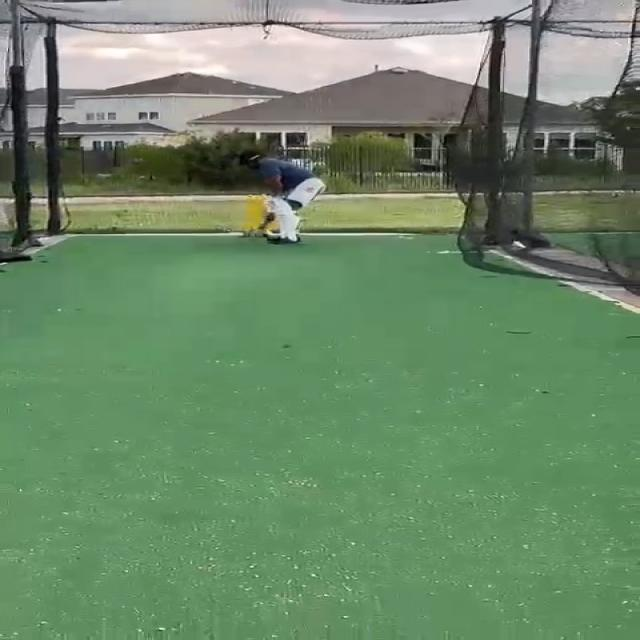batsman: (234, 148, 329, 246)
